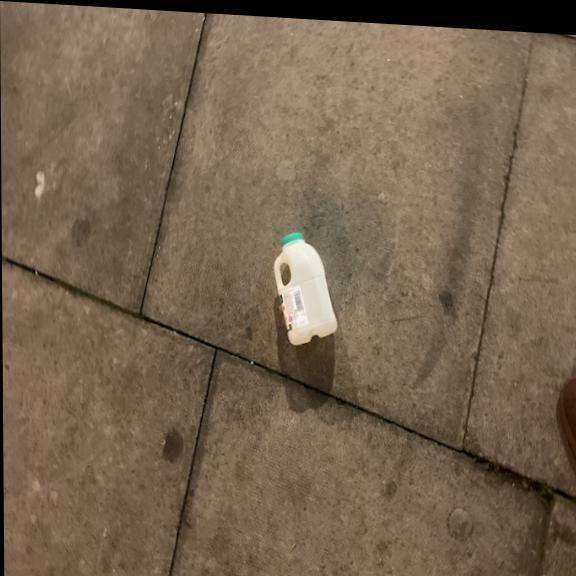Plastik: (273, 227, 341, 348)
